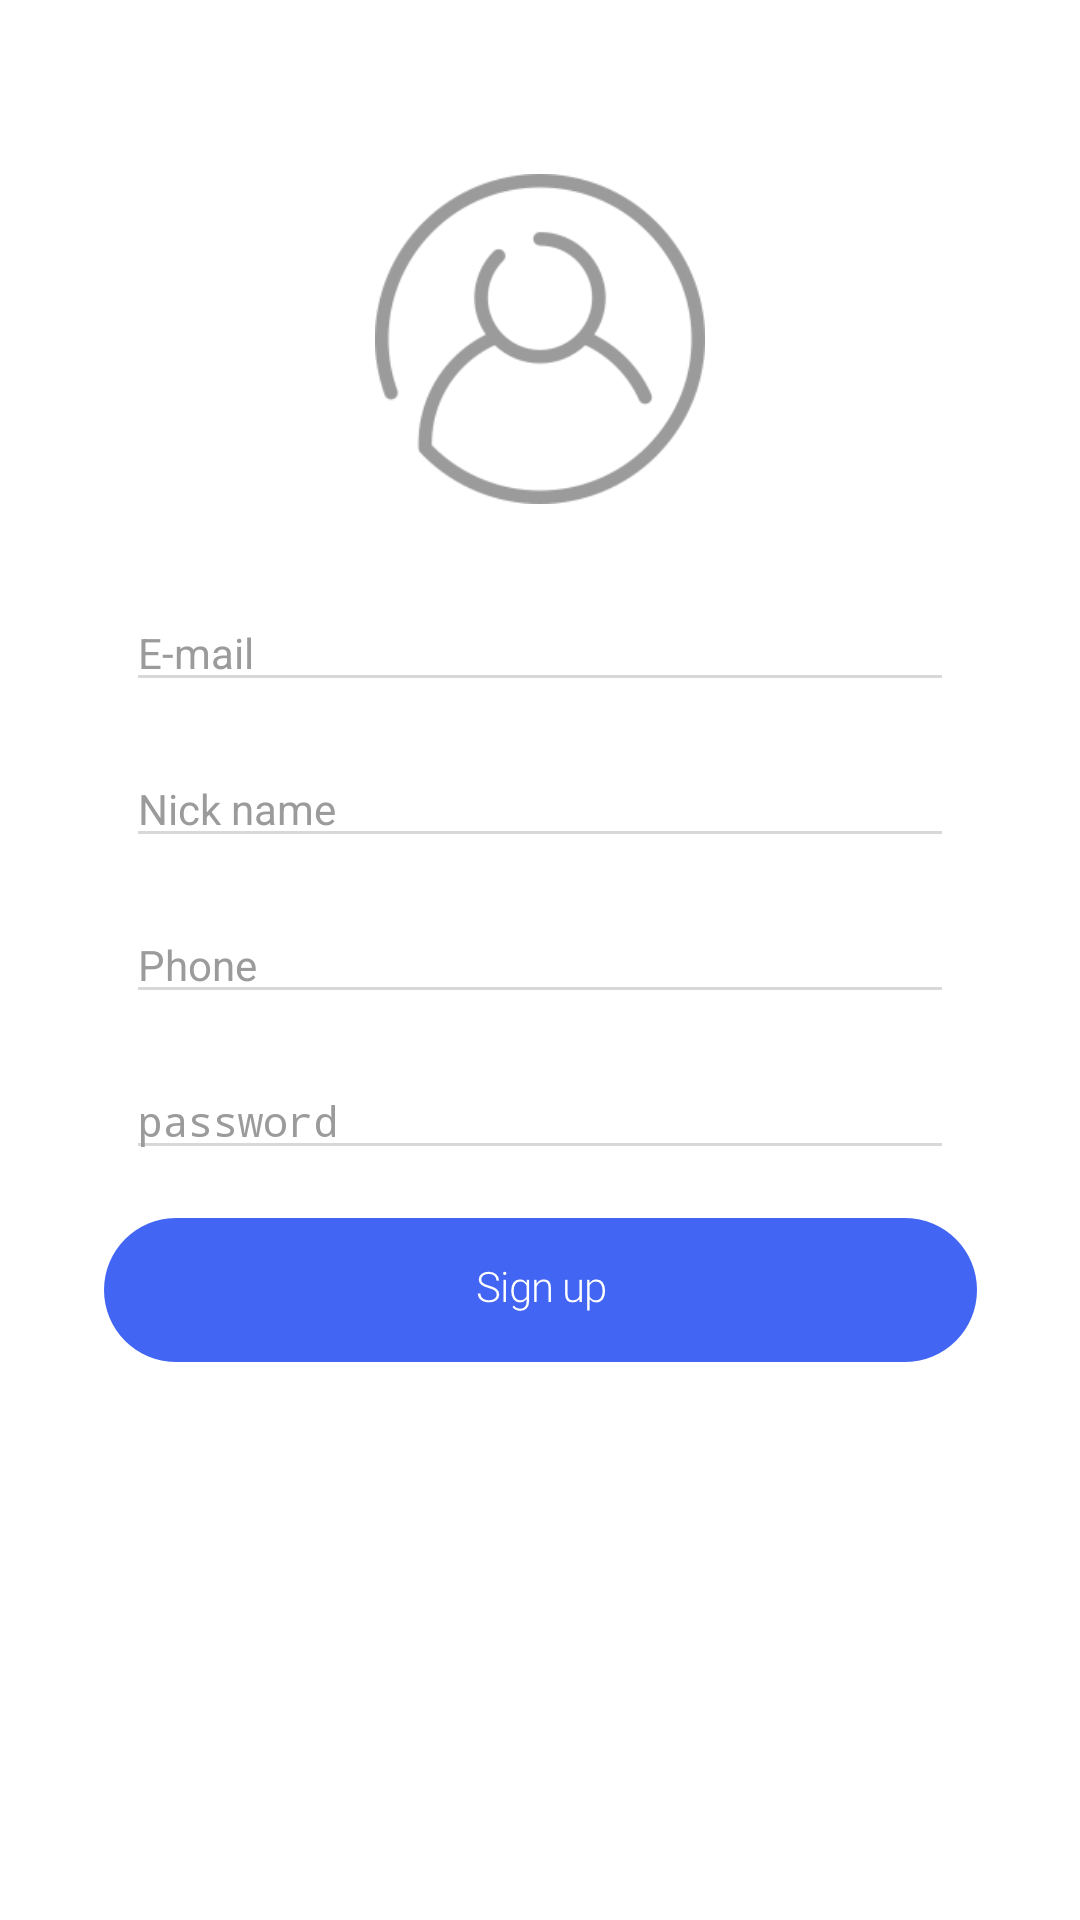

Point at icon controls on the screen. Image size 1080w x 1920h, points as (x=x, y=y).
profile: (x=540, y=339)
